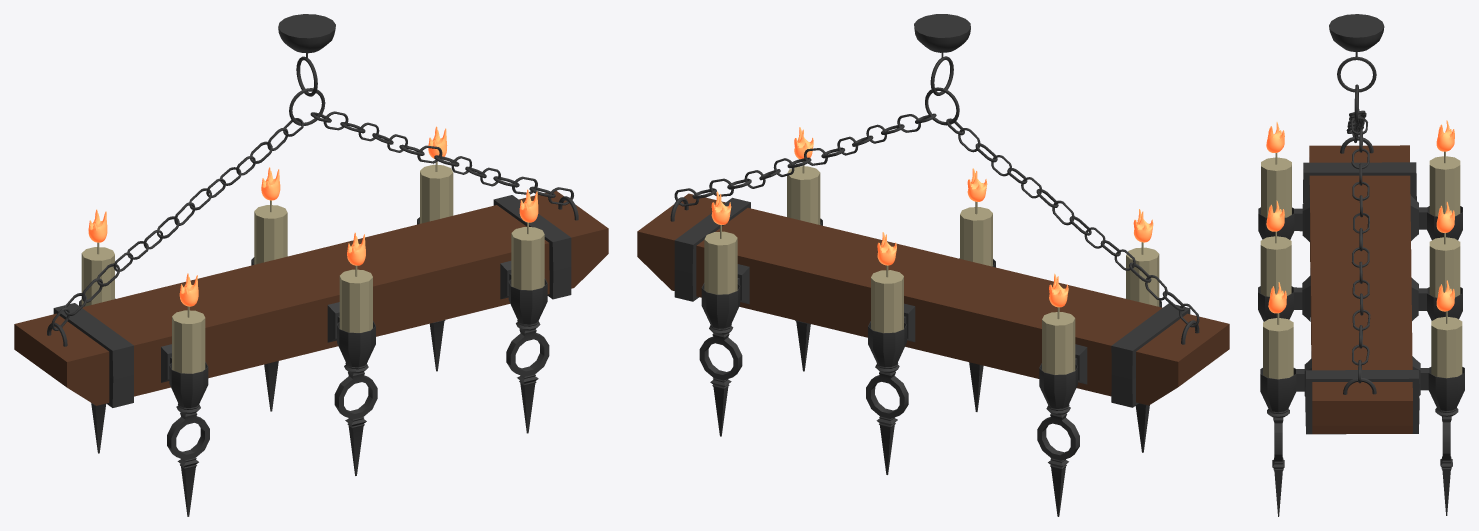
Rendered from Lampadario .fbx.
3 views of the same model, side by side, from view 1: azimuth 30°, elevation 25°; view 2: azimuth 150°, elevation 25°; view 3: azimuth 270°, elevation 25° (orthographic). The views are drawn at different scales.
Visible parts, largest first — view 1: Cylinder.032; view 2: Cylinder.032; view 3: Cylinder.032.
Part boxes in pixels (left/top/right/bottom): Cylinder.032: left=14, top=14, right=608, bottom=516; Cylinder.032: left=637, top=14, right=1229, bottom=516; Cylinder.032: left=1258, top=14, right=1464, bottom=516.
Bounding box in the file's own units: 336 × 249 × 115.
